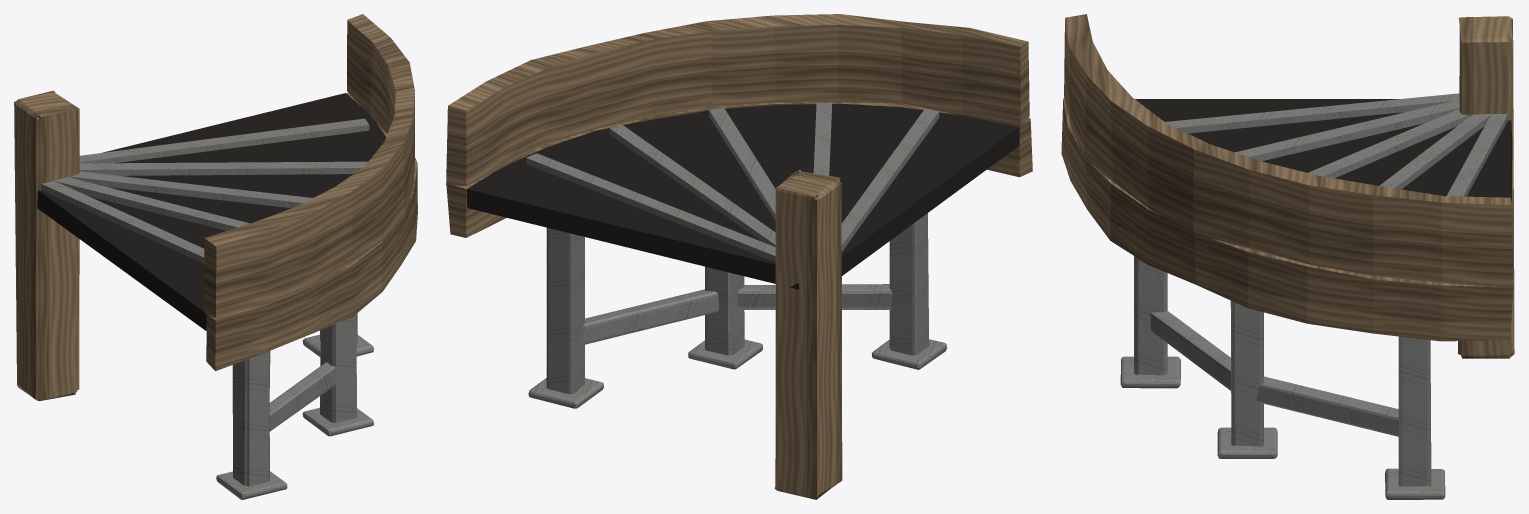
The model's file is conveyor_corner.glb.
3 views of the same model, side by side, from view 1: azimuth 30°, elevation 25°; view 2: azimuth 150°, elevation 25°; view 3: azimuth 270°, elevation 25° (orthographic). The views are drawn at different scales.
Parts seen in each view (by area): view 1: ConveyorCorner; view 2: ConveyorCorner; view 3: ConveyorCorner.
Boxes of the visible parts, x1,y1,x2,y2 form: ConveyorCorner: [14, 14, 417, 499]; ConveyorCorner: [446, 14, 1032, 499]; ConveyorCorner: [1061, 14, 1514, 499].
Bounding box in the file's own units: 1.69 × 1.34 × 1.7.
3 materials, 2 textured.
